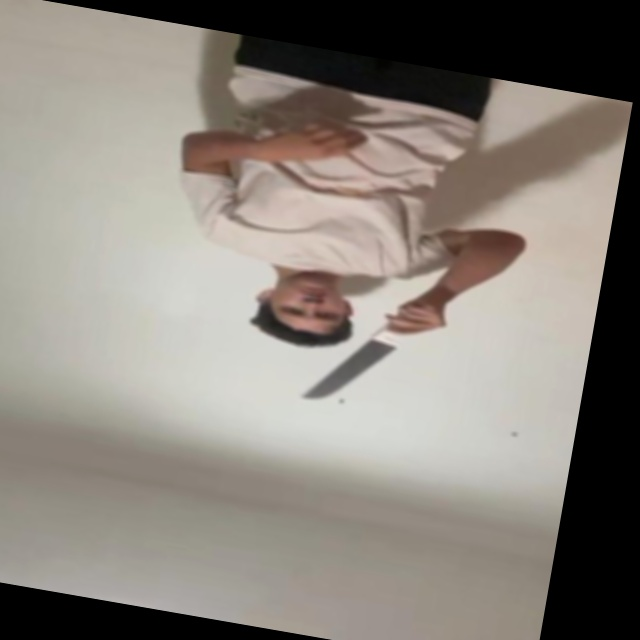Sharp-Object: (300, 334, 393, 415)
